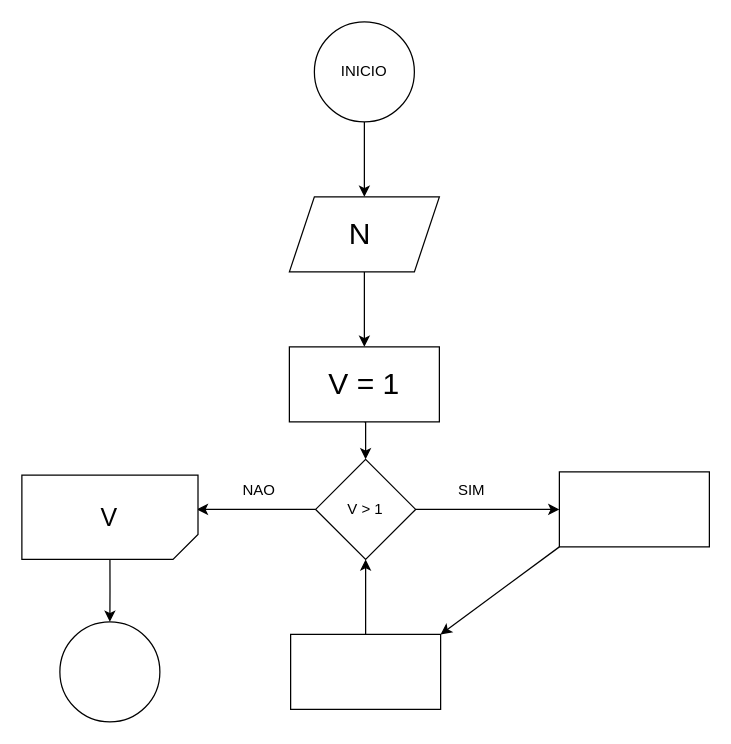
The diagram is 731 pixels wide and 744 high, and some of its shapes have lost their labels. The shapes that lost their labels are listed below. From the top down, each one's centre as x and y in pixels, then its label:
At point (633, 509): "V = V * N".
At point (109, 671): "TERMINO".
At point (365, 671): "N = N - 1".
